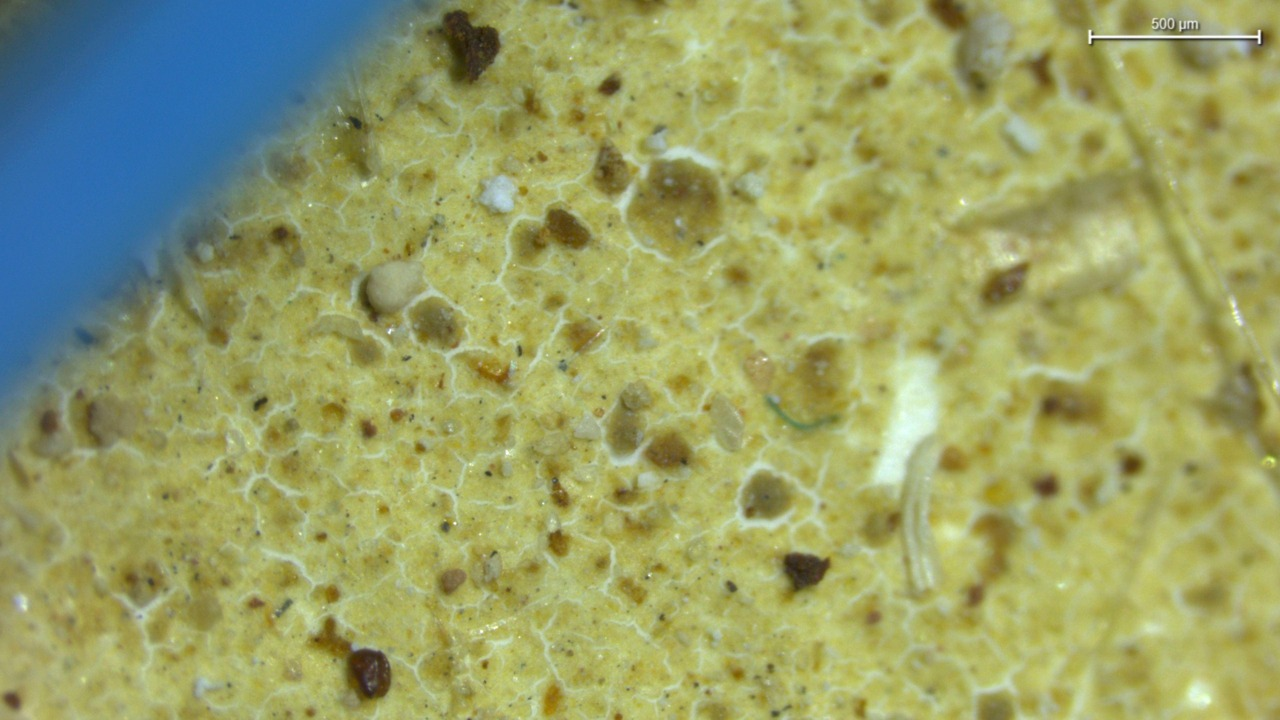microplastic_fragment: (365, 260, 425, 314), (348, 648, 391, 698), (478, 174, 519, 213)
